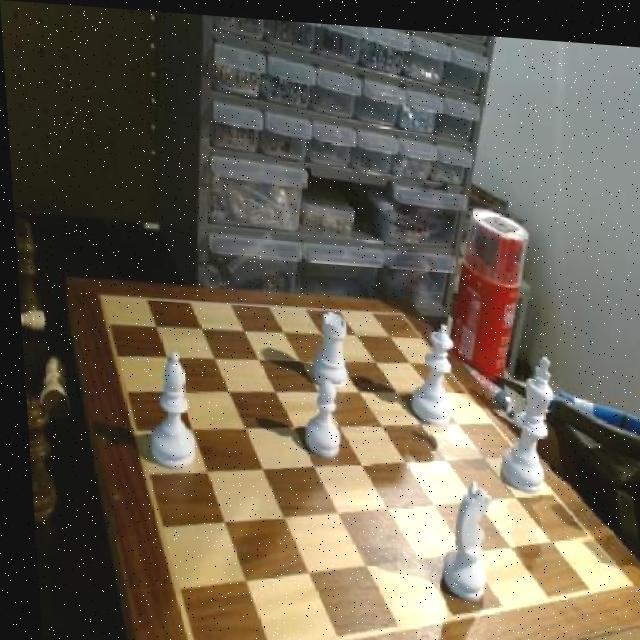black-rook: (137, 351, 196, 468)
white-bishop: (495, 346, 551, 487)
white-king: (432, 479, 490, 598)
white-knight: (294, 378, 341, 456)
white-pawn: (404, 310, 455, 423)
white-queen: (301, 305, 351, 383)
